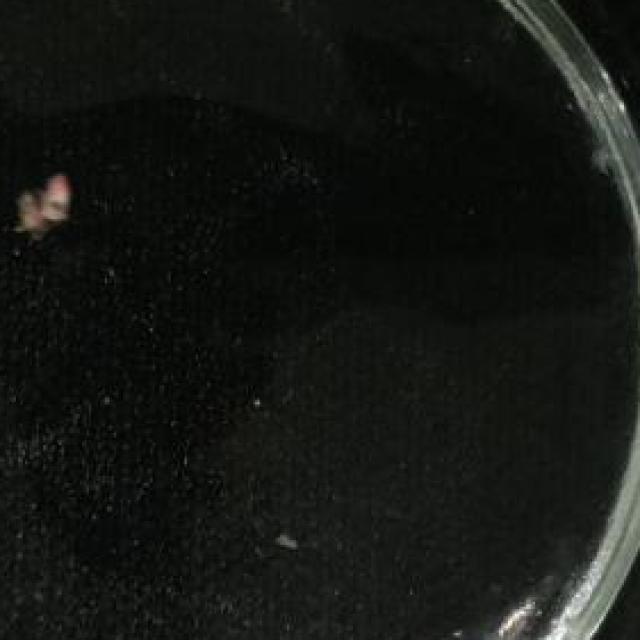Microplastic: (2, 169, 82, 252)
